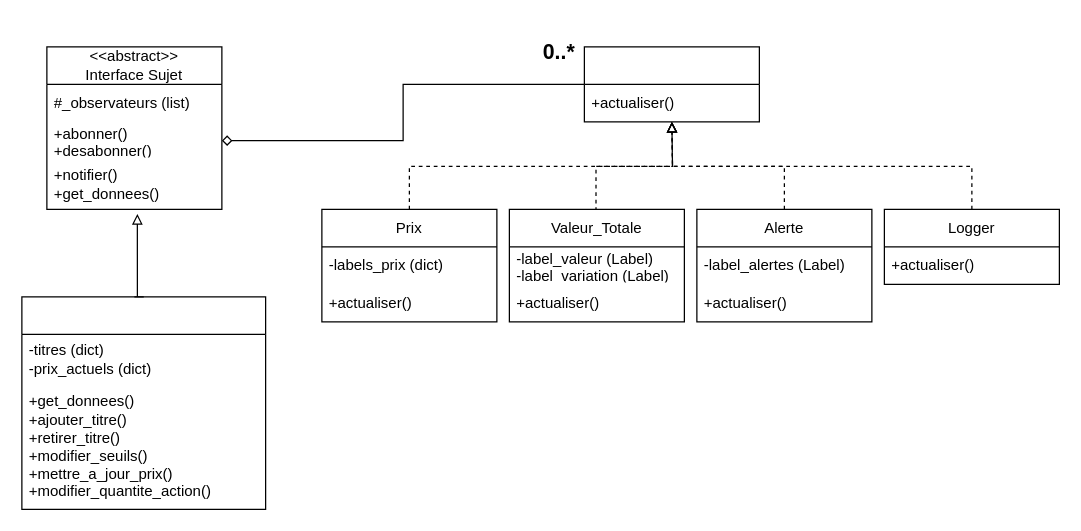
Some shapes in this 1081 by 531 pixel diagram are drawn without their labels. Here are the shapes that lost their labels. From the top down, the box of each, then its label:
(583, 46, 759, 122): Interface Observateur
(21, 296, 266, 509): Portefeuille
